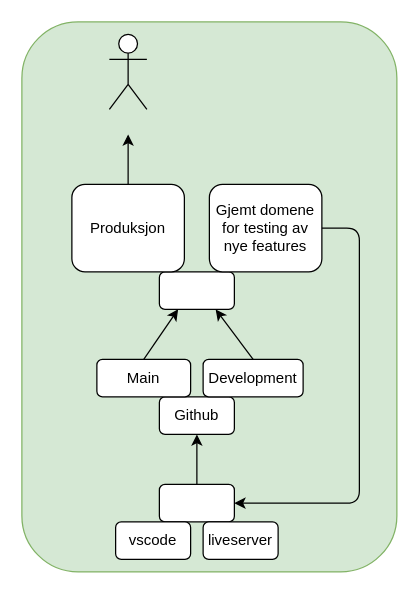
This 419x594 diagram has some shape labels left out. Here are the shapes that lost their labels. From the top down, the centre of each, then its label:
At point (127, 71): "Sluttbruker".
At point (196, 290): "Netlify".
At point (196, 502): "Utvikler".
